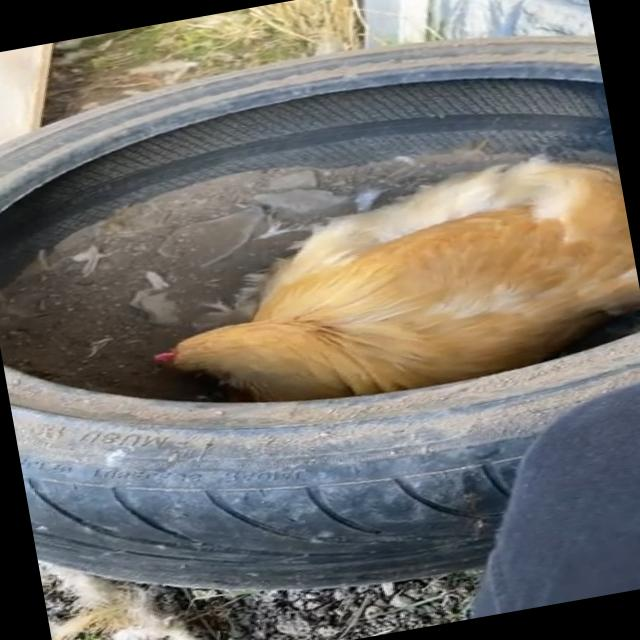stand bath: (114, 128, 640, 430)
